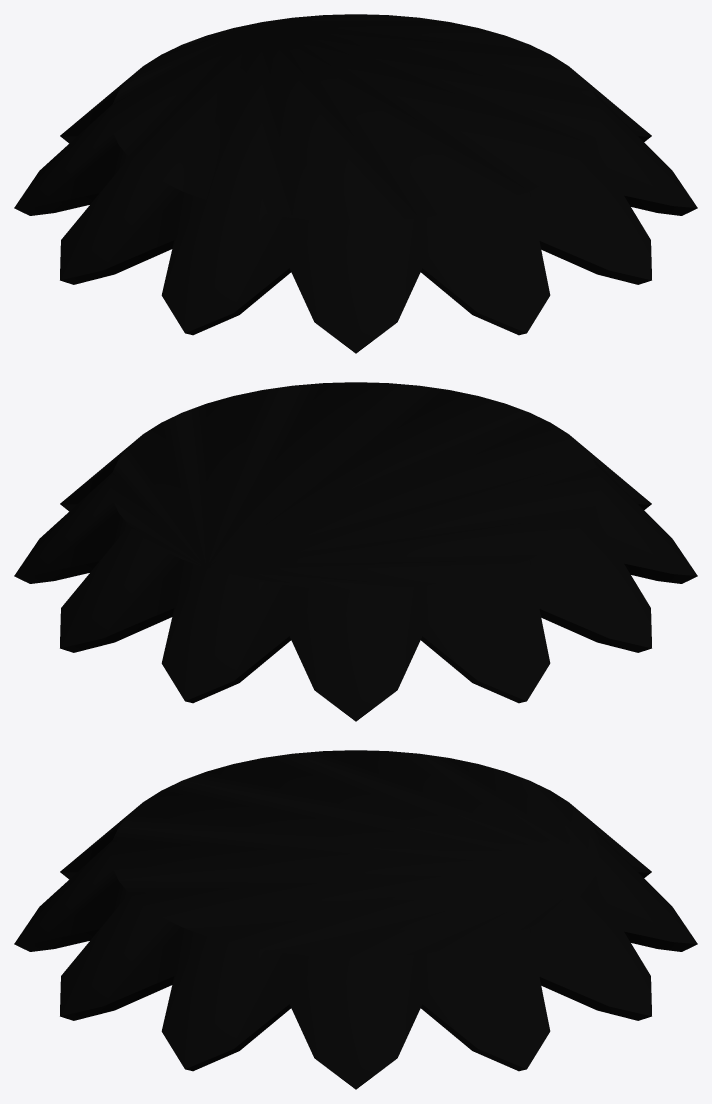
Rendered from ruffles2.fbx.
3 renders of one model, top to bottom at view 1: azimuth 30°, elevation 25°; view 2: azimuth 150°, elevation 25°; view 3: azimuth 270°, elevation 25°, orthographic.
Parts seen in each view (by area): view 1: ruffles2; view 2: ruffles2; view 3: ruffles2.
Boxes of the visible parts, x1,y1,x2,y2 form: ruffles2: (14,14,697,353); ruffles2: (14,382,697,721); ruffles2: (14,750,697,1089).
Size of the model in its own units: 78.12 by 12.36 by 78.12.
1 material, 1 textured.
